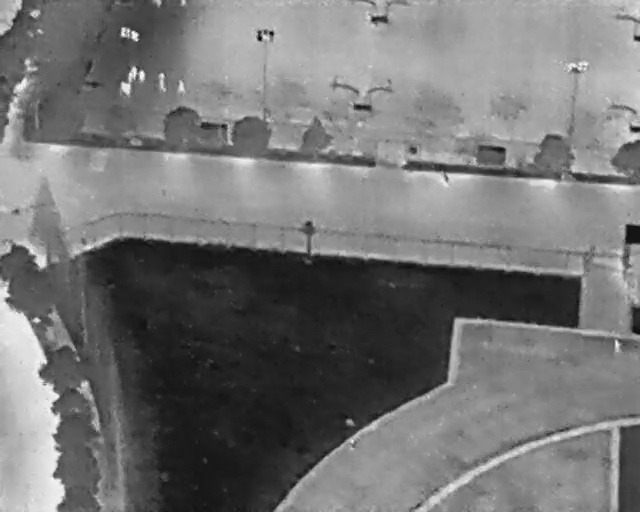Person: (118, 79, 133, 99), (125, 65, 139, 83), (157, 72, 167, 92), (613, 337, 623, 353), (176, 80, 186, 94), (348, 438, 357, 451), (138, 69, 145, 82)
